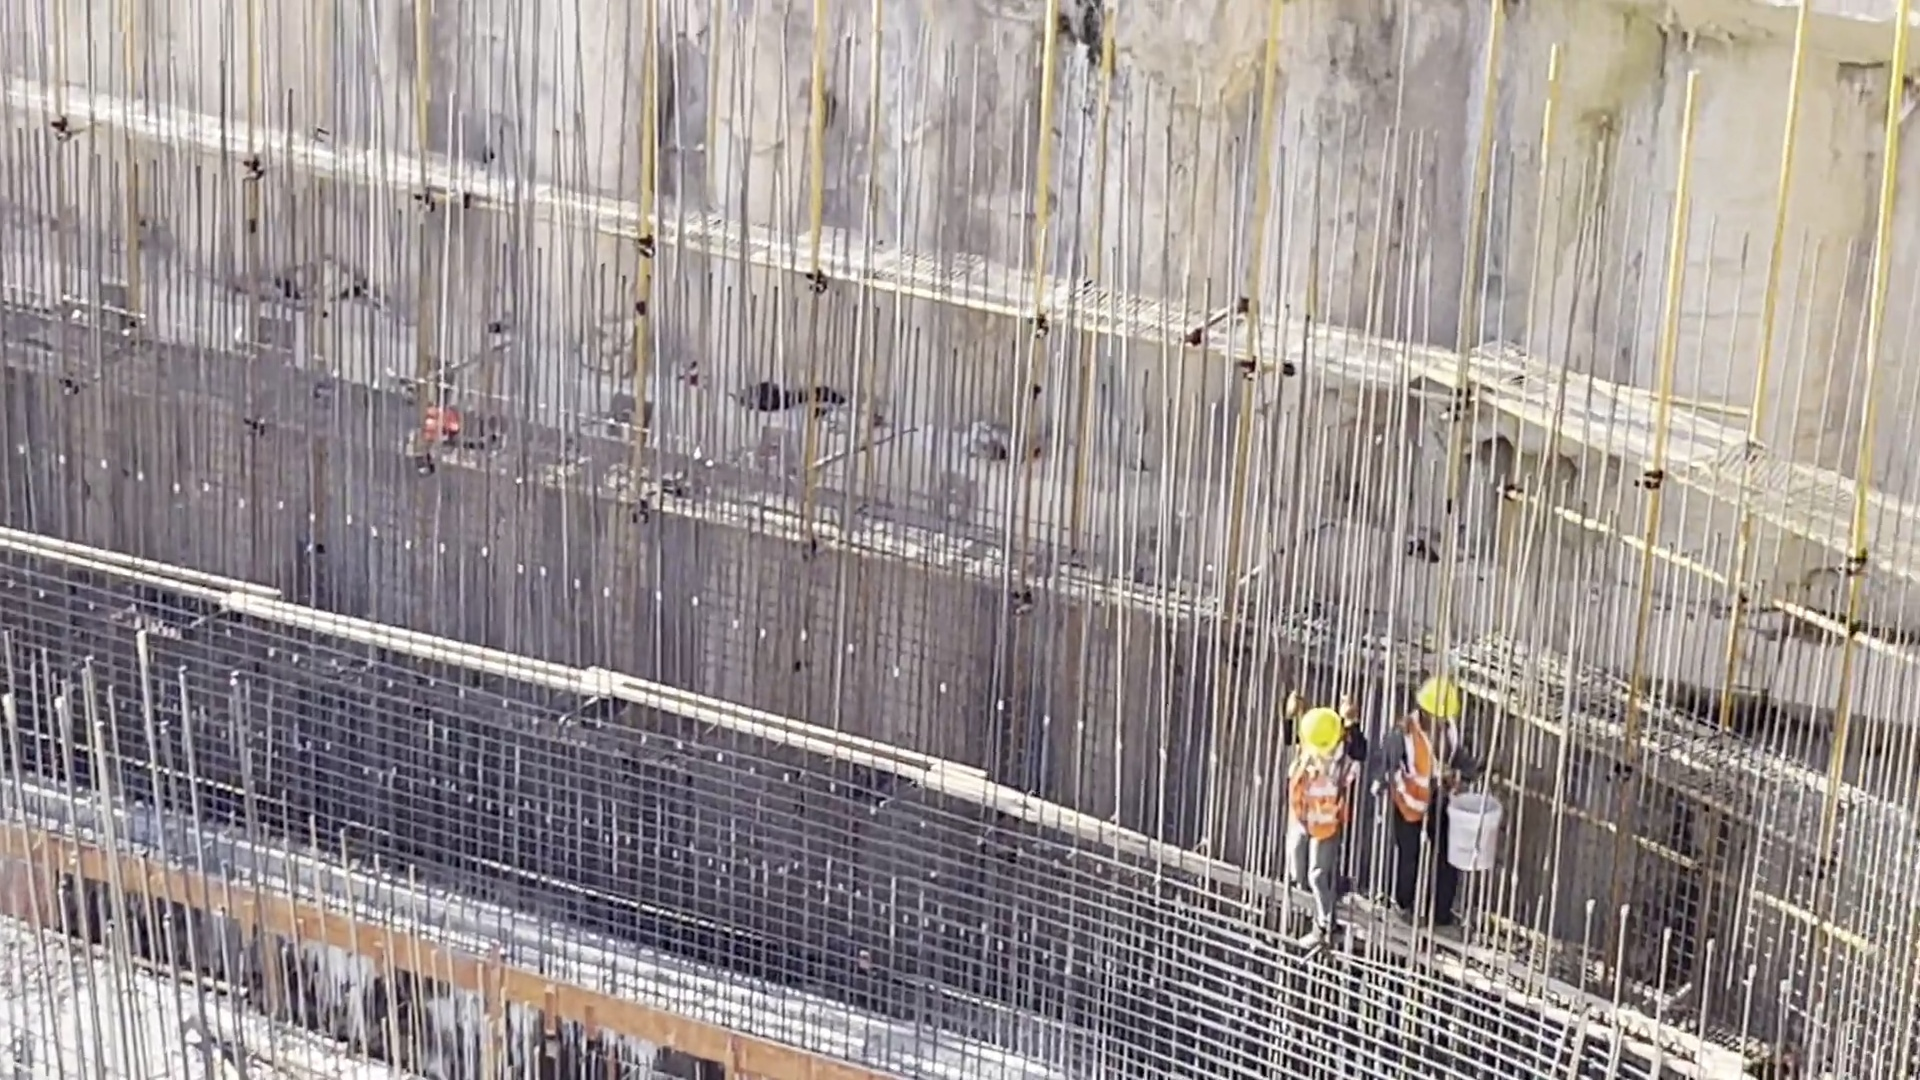helmet: (1414, 672, 1469, 713), (1299, 704, 1345, 752)
person: (1385, 668, 1499, 939), (1276, 697, 1363, 955)
vest: (1389, 719, 1471, 820), (1284, 753, 1363, 839)
